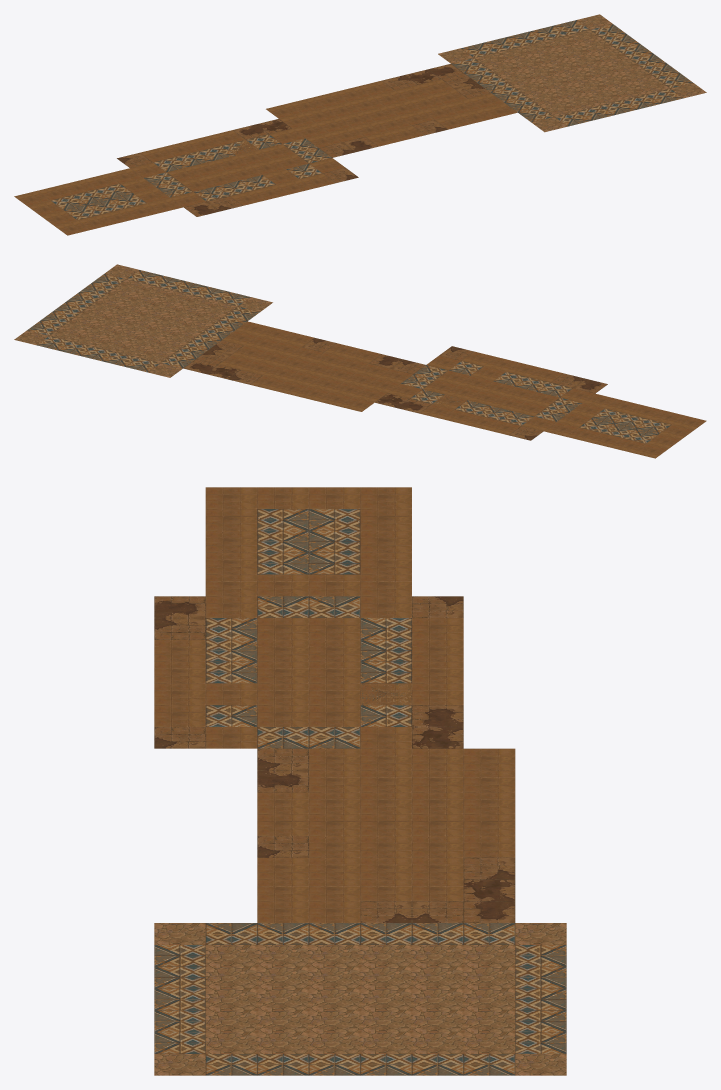
File: Pyramid_2F_all.FBX
3 renders of one model, top to bottom at view 1: azimuth 30°, elevation 25°; view 2: azimuth 150°, elevation 25°; view 3: azimuth 270°, elevation 25°, orthographic. The views are drawn at different scales.
Visible parts, largest first — view 1: Pyramid_2F04, Pyramid_2F02, Pyramid_2F03, Pyramid_2F01; view 2: Pyramid_2F04, Pyramid_2F02, Pyramid_2F03, Pyramid_2F01; view 3: Pyramid_2F04, Pyramid_2F02, Pyramid_2F03, Pyramid_2F01.
Boxes of the visible parts, x1=… form: Pyramid_2F04: x1=438, y1=14, x2=706, y2=132; Pyramid_2F02: x1=117, y1=119, x2=358, y2=216; Pyramid_2F03: x1=266, y1=64, x2=517, y2=157; Pyramid_2F01: x1=14, y1=168, x2=182, y2=235; Pyramid_2F04: x1=14, y1=264, x2=272, y2=377; Pyramid_2F02: x1=375, y1=346, x2=607, y2=440; Pyramid_2F03: x1=183, y1=321, x2=425, y2=411; Pyramid_2F01: x1=544, y1=393, x2=706, y2=458; Pyramid_2F04: x1=154, y1=923, x2=566, y2=1075; Pyramid_2F02: x1=154, y1=596, x2=463, y2=748; Pyramid_2F03: x1=257, y1=748, x2=515, y2=922; Pyramid_2F01: x1=205, y1=487, x2=411, y2=596.
Size of the model in its own units: 108 by 4.53e-07 by 32.
